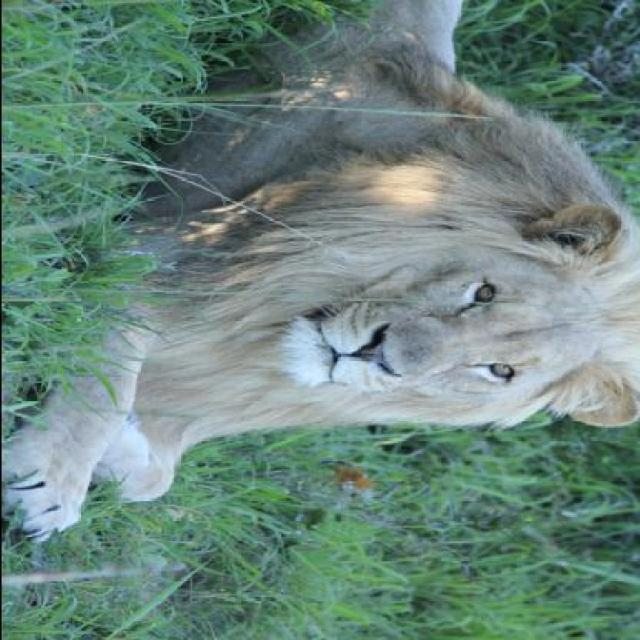Lion: (1, 2, 638, 540)
